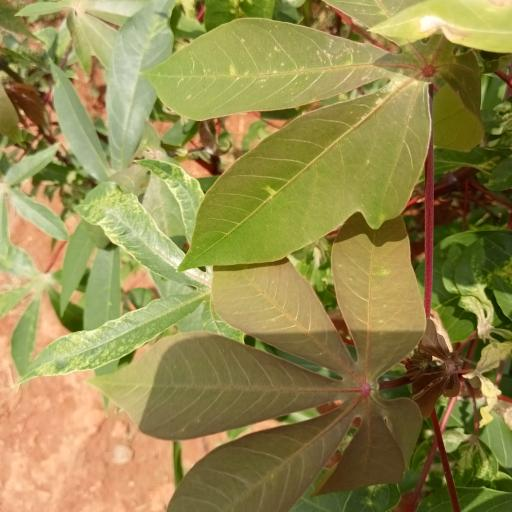Cassava_Brown_Leaf_Spot: (151, 19, 495, 263)
